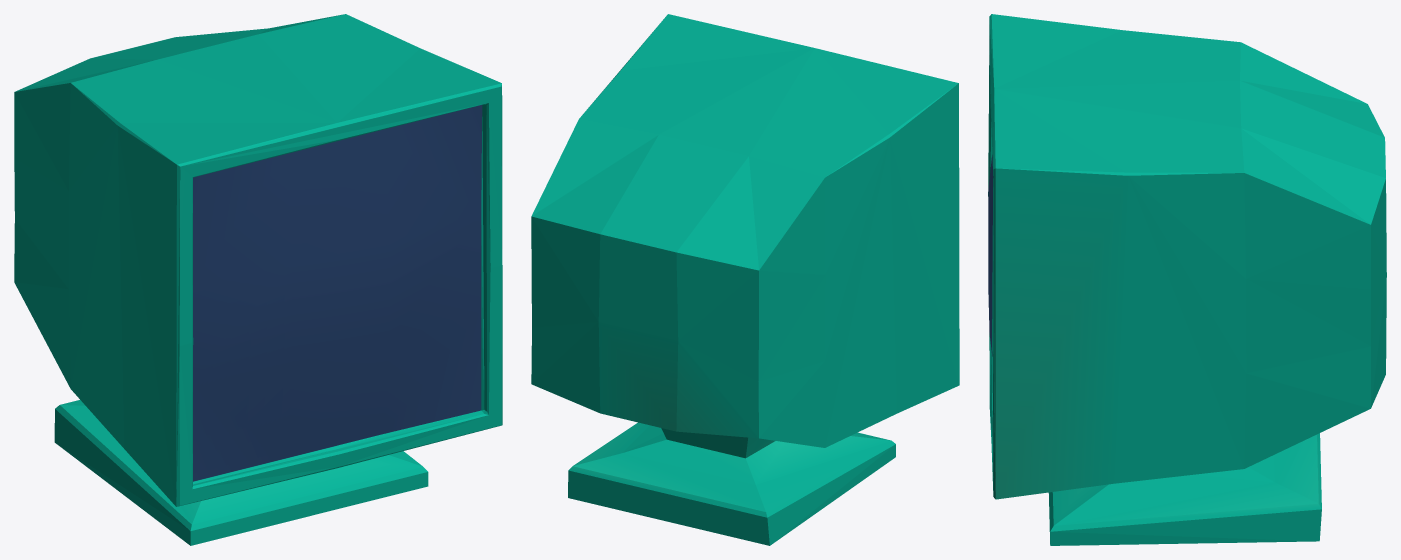
File: mp_computer.glb
The picture shows the model from 3 angles, left to right: view 1: azimuth 30°, elevation 25°; view 2: azimuth 150°, elevation 25°; view 3: azimuth 270°, elevation 25°; orthographic projection. The views are drawn at different scales.
Visible parts, largest first — view 1: monitor; view 2: monitor; view 3: monitor.
Boxes of the visible parts, <box> form: monitor: <box>14,14,502,545</box>; monitor: <box>531,14,959,545</box>; monitor: <box>988,14,1386,545</box>.
Size of the model in its own units: 2 by 2.4 by 2.17.
